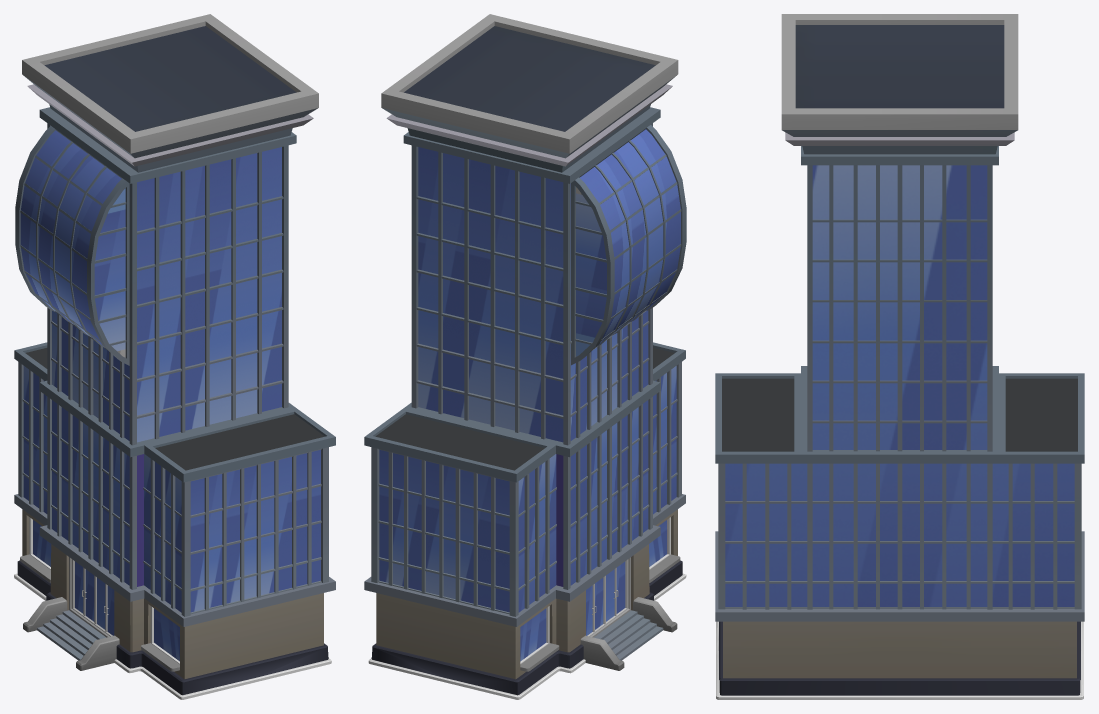
File: Building_15_A.fbx
3 renders of one model, left to right at view 1: azimuth 30°, elevation 25°; view 2: azimuth 150°, elevation 25°; view 3: azimuth 270°, elevation 25°, orthographic. The views are drawn at different scales.
Parts seen in each view (by area): view 1: Building_15_A; view 2: Building_15_A; view 3: Building_15_A.
Boxes of the visible parts, x1,y1,x2,y2 form: Building_15_A: (14,14,335,699); Building_15_A: (364,14,686,699); Building_15_A: (715,14,1084,699).
Bounding box in the file's own units: 860 × 2100 × 1183.
